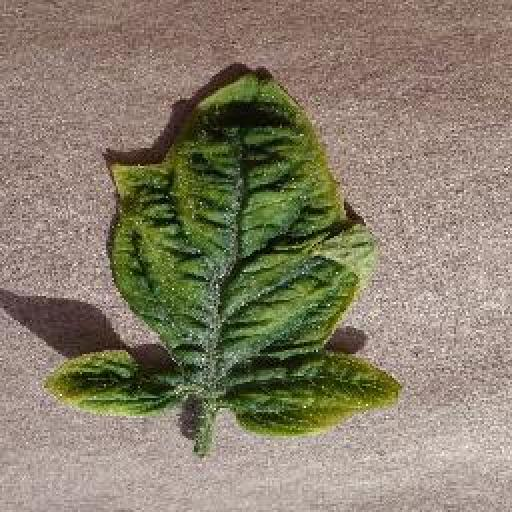Yellow Leaf Curl Virus: (104, 74, 406, 442), (40, 348, 190, 417)
